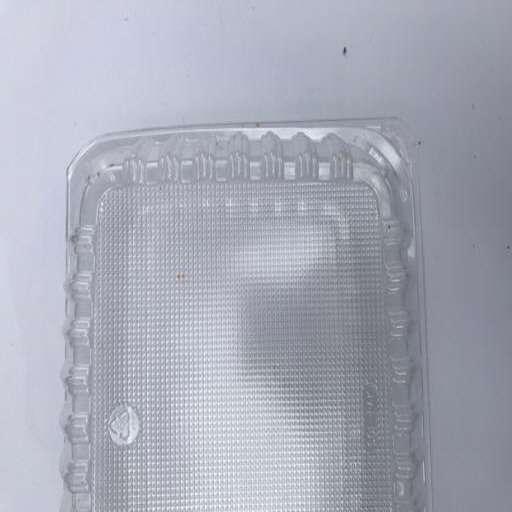Plastic_4: (57, 117, 434, 512)
